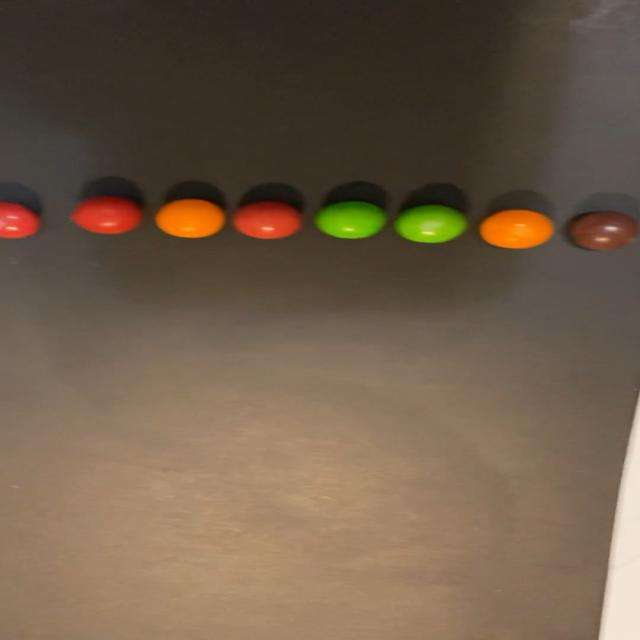smartie: (480, 209, 554, 248), (394, 204, 466, 243), (70, 196, 142, 234), (569, 211, 639, 250), (154, 199, 224, 238), (315, 201, 386, 238), (232, 201, 301, 238), (0, 202, 39, 238)
